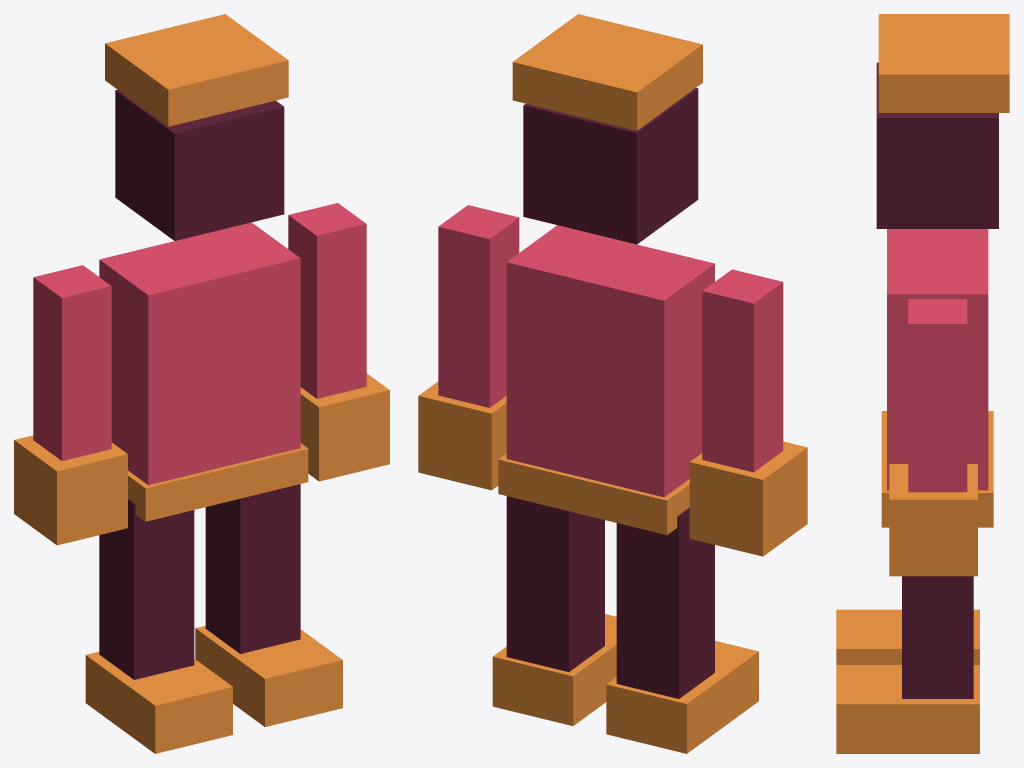
The model's file is fighter-2.glb.
3 renders of one model, left to right at view 1: azimuth 30°, elevation 25°; view 2: azimuth 150°, elevation 25°; view 3: azimuth 270°, elevation 25°, orthographic. The views are drawn at different scales.
Parts seen in each view (by area): view 1: Torso, Head, Left leg, Hair, Right leg, Left arm, Right arm, Left shoe, Left glove, Right shoe, Right glove, Belt; view 2: Torso, Head, Left leg, Hair, Left arm, Right leg, Right arm, Left glove, Left shoe, Right glove, Belt, Right shoe; view 3: Torso, Head, Hair, Right arm, Right shoe, Right leg, Right glove, Left shoe, Belt.
Boxes of the visible parts, x1,y1,x2,y2 form: Torso: (99,222,300,485); Head: (115,89,284,240); Left leg: (99,498,194,679); Hair: (105,14,288,126); Right leg: (205,484,300,653); Left arm: (33,265,111,460); Right arm: (288,203,366,398); Left shoe: (85,651,232,753); Left glove: (14,435,127,545); Right shoe: (195,625,342,726); Right glove: (300,373,389,481); Belt: (128,443,308,521); Torso: (506,225,714,497); Head: (523,88,698,244); Left leg: (616,507,714,698); Hair: (512,14,702,130); Left arm: (702,269,783,472); Right leg: (506,496,604,671); Right arm: (438,205,519,407); Left glove: (689,441,807,556); Left shoe: (606,641,758,753); Right glove: (418,381,506,490); Belt: (498,454,689,534); Right shoe: (492,614,616,725); Torso: (887,229,988,490); Head: (876,62,998,228); Hair: (878,14,1009,112); Right arm: (908,299,967,492); Right shoe: (836,665,979,753); Right leg: (902,576,973,698); Right glove: (889,464,977,576); Left shoe: (836,609,979,664); Belt: (881,411,993,527).
Bounding box in the file's own units: 1.88 × 3.46 × 0.82.
